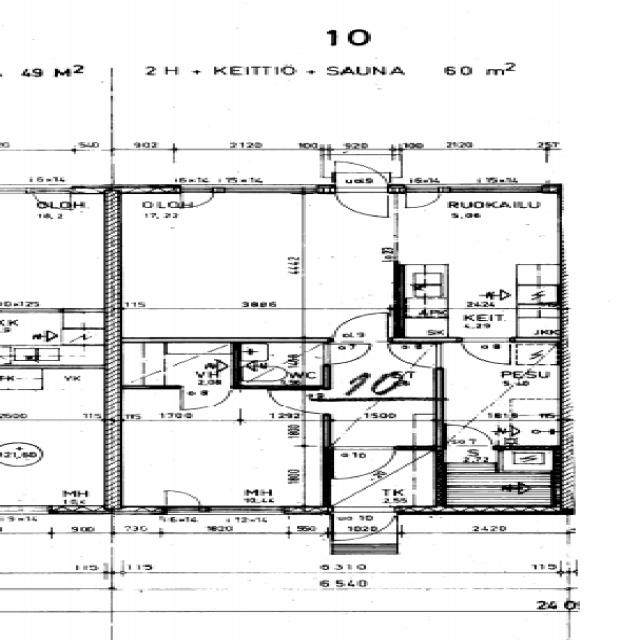door: (324, 343, 438, 397), (333, 168, 393, 218), (328, 445, 399, 479), (331, 508, 399, 538), (329, 312, 391, 344), (460, 336, 516, 366), (389, 341, 443, 369), (177, 386, 235, 412), (331, 158, 386, 180), (264, 388, 314, 412), (157, 487, 207, 510), (323, 342, 371, 364), (448, 426, 497, 446), (29, 188, 72, 210), (403, 187, 444, 210), (177, 187, 216, 210), (284, 531, 329, 548)
window: (438, 456, 560, 512), (450, 184, 545, 196), (218, 184, 304, 197), (200, 504, 287, 516), (561, 533, 580, 563)
zone: (115, 192, 307, 320), (116, 417, 316, 509), (394, 191, 563, 286), (0, 193, 110, 311), (441, 346, 560, 444), (400, 246, 564, 309), (0, 419, 110, 510), (439, 454, 560, 512), (323, 344, 438, 396), (0, 310, 104, 366), (326, 399, 442, 448), (118, 342, 239, 388), (236, 342, 326, 388), (498, 448, 557, 470)
